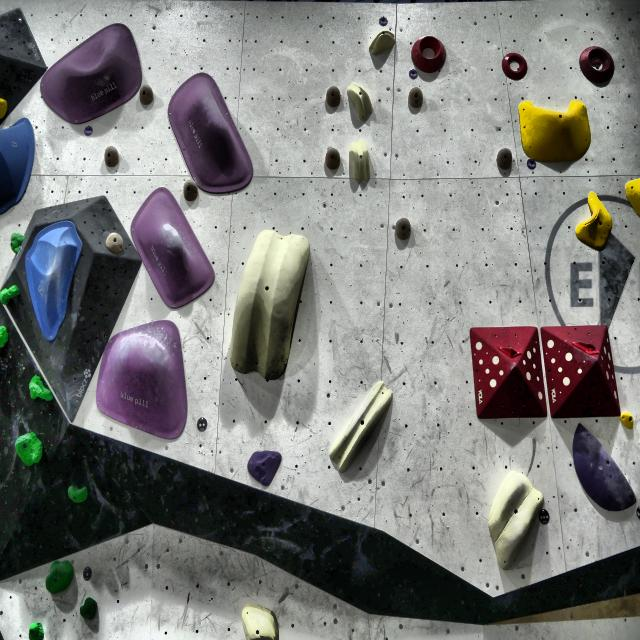Hold: (228, 220, 310, 392), (92, 319, 190, 440), (166, 66, 253, 194), (131, 184, 219, 304), (44, 22, 142, 118), (563, 420, 640, 520), (21, 227, 84, 346), (326, 381, 396, 486), (508, 100, 602, 165), (490, 467, 545, 565), (0, 114, 40, 218), (574, 191, 614, 255), (234, 597, 291, 640), (576, 41, 618, 87), (343, 132, 375, 192), (340, 74, 376, 126), (9, 430, 47, 474), (244, 449, 286, 488), (409, 32, 446, 74), (42, 556, 76, 594), (367, 22, 399, 59), (497, 338, 534, 367), (567, 329, 600, 359), (622, 170, 640, 220), (23, 375, 54, 404), (13, 618, 51, 640), (500, 53, 529, 80), (4, 227, 25, 254), (2, 278, 20, 306), (81, 595, 98, 622), (65, 481, 88, 500), (1, 319, 12, 349)
